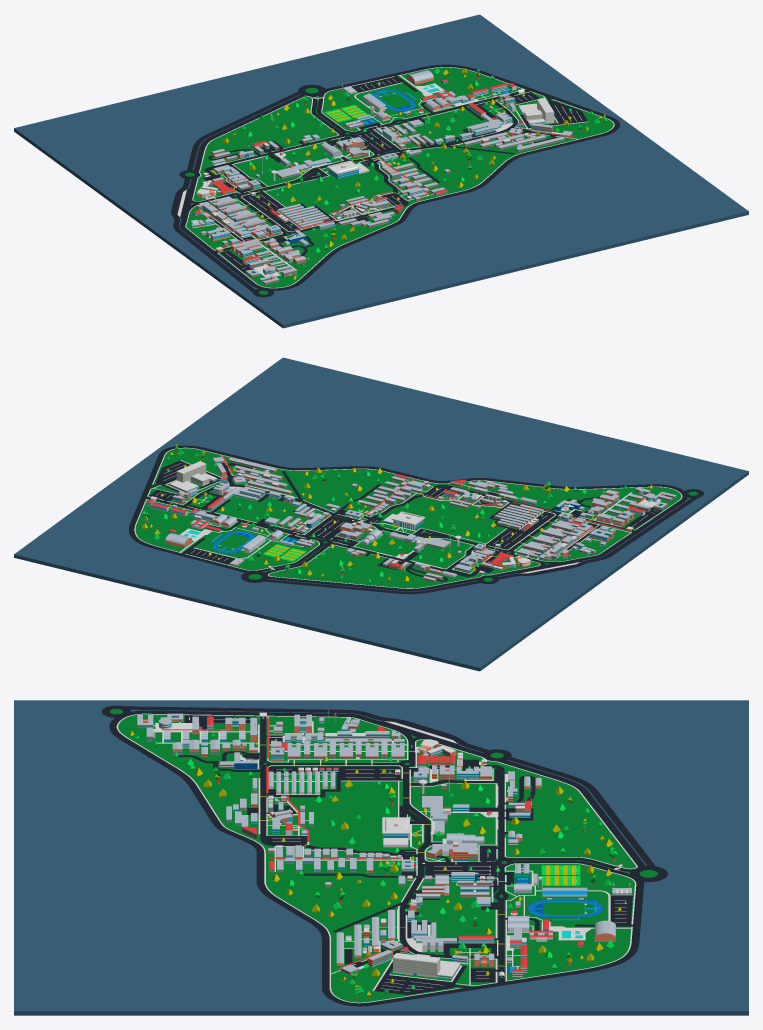
3 renders of one model, top to bottom at view 1: azimuth 30°, elevation 25°; view 2: azimuth 150°, elevation 25°; view 3: azimuth 270°, elevation 25°, orthographic. The views are drawn at different scales.
Visible parts, largest first — view 1: mebase, Plane, mecmjpEstacionamento - CCHLA - CE - CCSA - Central de Aulas, emcmjpufhu001; view 2: mebase, Plane, emcmjpufhu001, mecmjpEstacionamento - CCHLA - CE - CCSA - Central de Aulas; view 3: mebase, Plane, emcmjpufhu001, mecmjpEstacionamento - CCHLA - CE - CCSA - Central de Aulas, meroad2s7.113, meroad1.034, mecmjpbibc001 Biblioteca Central, mecmjpesp2 Centro Esportivo - Pista de atletismo, meroad1.023, meroad1.007, mecmjpreit001 Reitoria, mecmjpEstacionamento - Reitoria (+8 smaller).
Boxes of the visible parts, box(x1,y1,x2,y2) form: mebase: box(14, 14, 748, 328); Plane: box(186, 67, 613, 288); mecmjpEstacionamento - CCHLA - CE - CCSA - Central de Aulas: box(242, 191, 300, 231); emcmjpufhu001: box(518, 98, 554, 125); mebase: box(14, 357, 748, 671); Plane: box(135, 448, 681, 588); emcmjpufhu001: box(169, 461, 217, 492); mecmjpEstacionamento - CCHLA - CE - CCSA - Central de Aulas: box(486, 512, 554, 549); mebase: box(14, 700, 748, 1015); Plane: box(118, 714, 636, 1003); emcmjpufhu001: box(393, 953, 460, 978); mecmjpEstacionamento - CCHLA - CE - CCSA - Central de Aulas: box(268, 766, 400, 780); meroad2s7.113: box(378, 975, 455, 994); meroad1.034: box(124, 706, 347, 712); mecmjpbibc001 Biblioteca Central: box(382, 817, 409, 847); mecmjpesp2 Centro Esportivo - Pista de atletismo: box(527, 898, 603, 920); meroad1.023: box(376, 970, 579, 1004); meroad1.007: box(260, 716, 266, 831); mecmjpreit001 Reitoria: box(426, 839, 477, 861); mecmjpEstacionamento - Reitoria: box(425, 864, 496, 875).
Size of the model in its own units: 19.77 by 0.8625 by 19.77.
